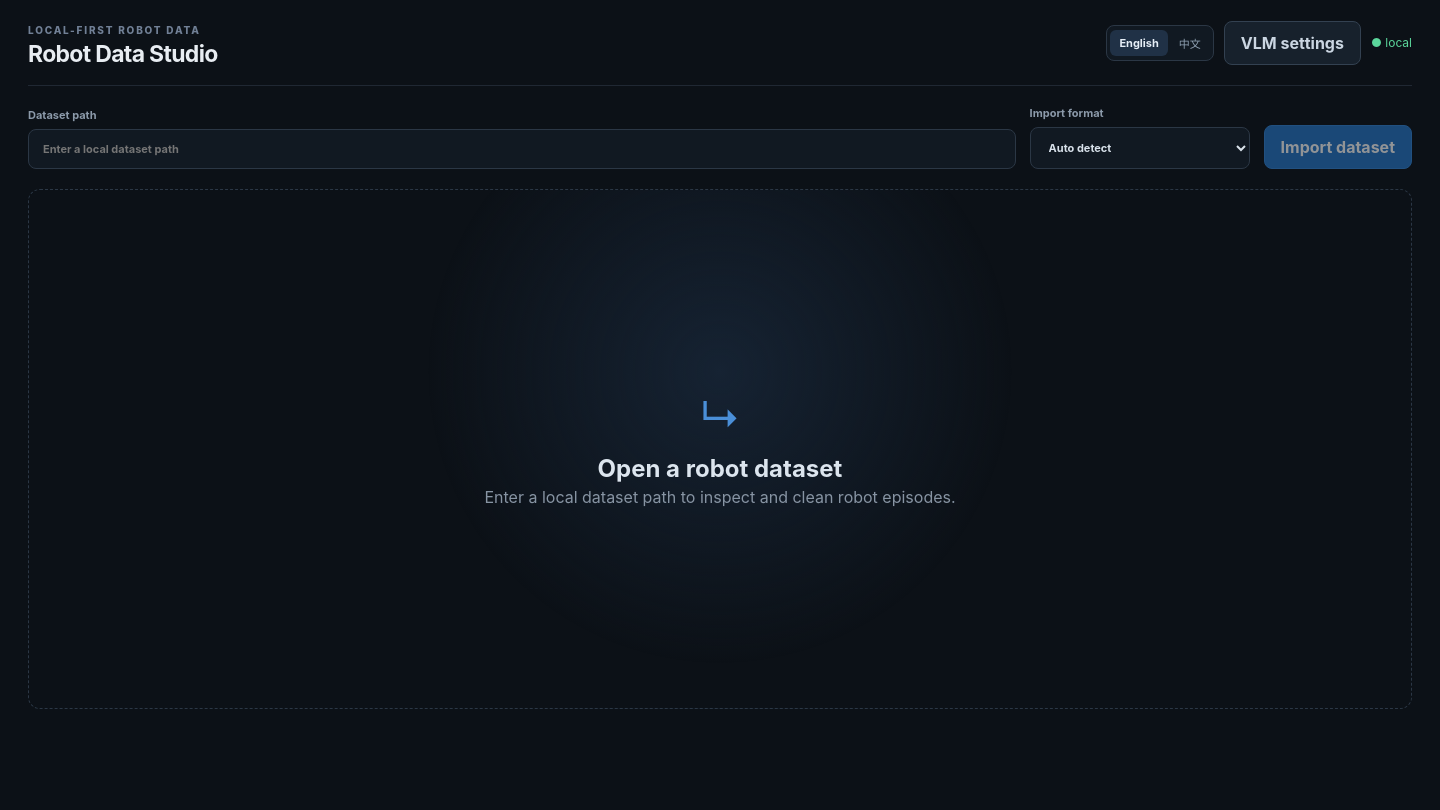
defaults to English and switches fixed UI copy to Chinese while preserving technical terms
The width and height of the screenshot is (1440, 810).
Expected: the button "Import dataset" is shown, [1264, 125, 1412, 169]
Expected: the heading "Open a robot dataset" is shown, [598, 454, 842, 483]
Click the button "中文".
click(1190, 42)  # box [1170, 28, 1210, 56]
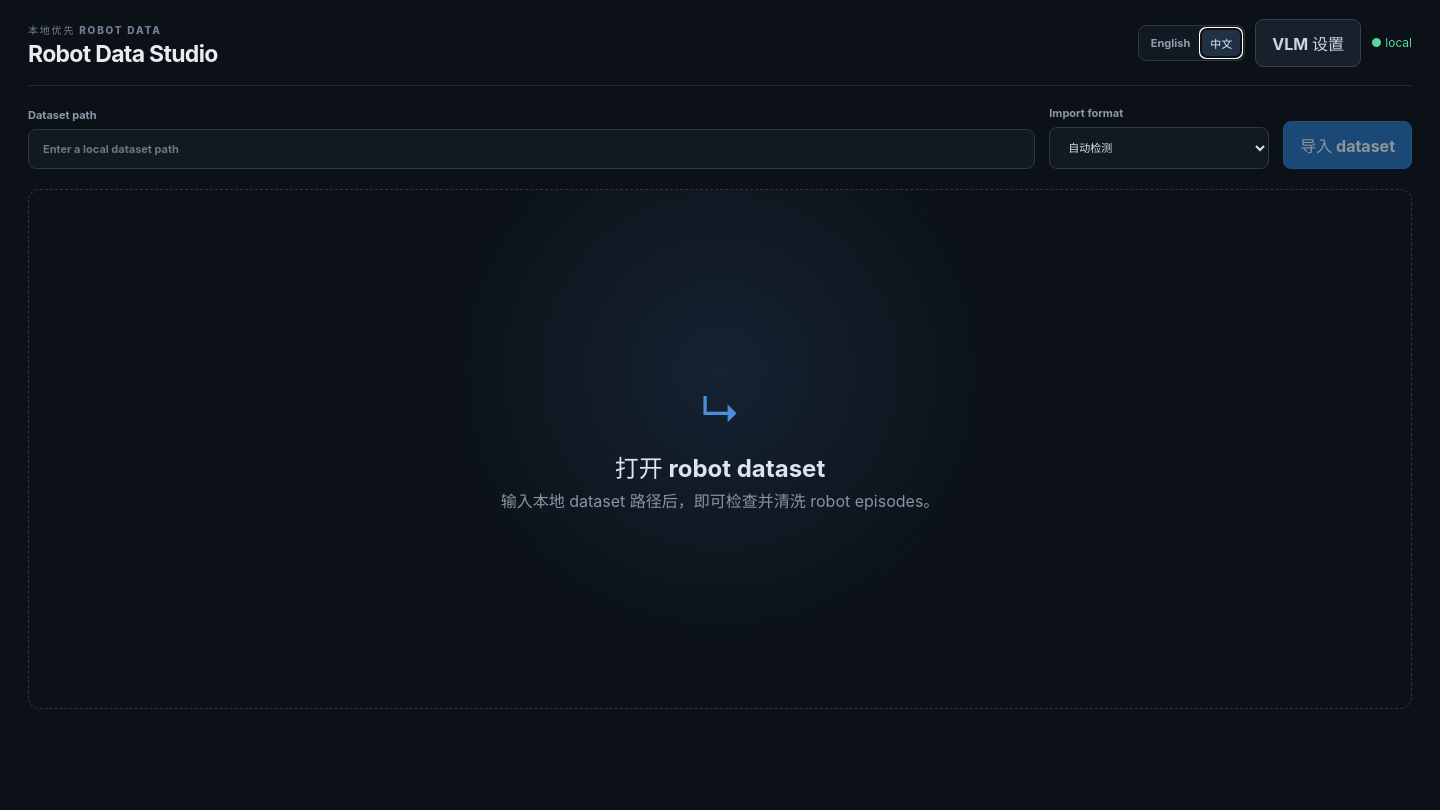
Expected: the button "导入 dataset" is shown, [1283, 121, 1412, 169]
Expected: the heading "打开 robot dataset" is shown, [615, 449, 825, 484]
Expected: the text "输入本地 dataset 路径后，即可检查并清洗 robot episodes。" is shown, [501, 488, 939, 512]
